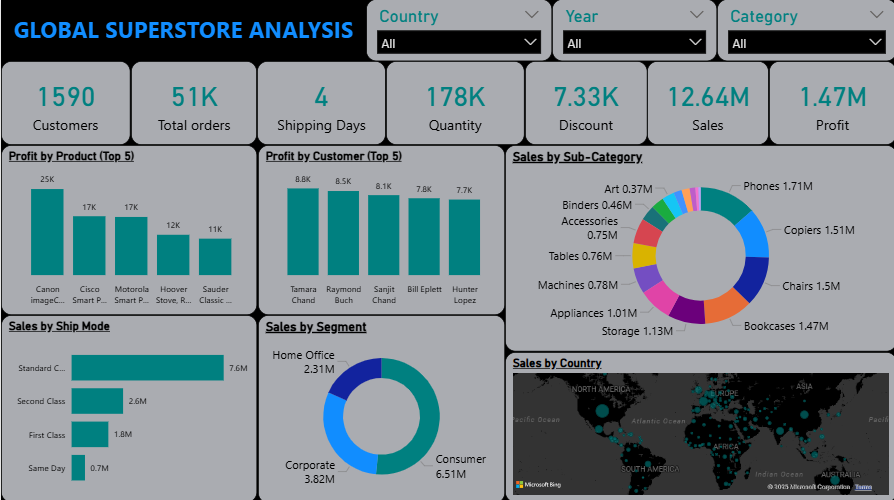

What the dashboard file says about the page in this screenshot:
{"tool":"powerbi","page":{"name":"Page 1","canvas":[1280,720],"ordinal":0},"visuals":[{"type":"card","fields":{"Values":["Measures_table.Customers"]},"box":[0,88.2,185.1,120.5],"z":0},{"type":"card","fields":{"Values":["Measures_table.Sales"]},"box":[922.9,88.6,174.3,120],"z":1},{"type":"card","fields":{"Values":["Measures_table.Profit"]},"box":[1097.6,88.2,182.2,120.5],"z":2},{"type":"card","fields":{"Values":["Measures_table.Total orders"]},"box":[185.7,88.6,180,120],"z":3},{"type":"columnChart","title":"Profit by Customer (Top 5)","fields":{"Category":["Global_Superstore2.Customer Name"],"Y":["Measures_table.Profit"]},"box":[367.1,208.6,352.9,242.9],"z":4},{"type":"slicer","fields":{"Values":["Global_Superstore2.Country"]},"box":[521.4,0,265.7,88.6],"z":5},{"type":"map","fields":{"Category":["Global_Superstore2.Country"],"Size":["Measures_table.Sales"]},"box":[720,504.6,559.5,215.4],"z":6},{"type":"card","fields":{"Values":["Measures_table.Shipping Days"]},"box":[365.9,88.2,183.7,120.5],"z":7},{"type":"slicer","fields":{"Values":["Global_Superstore2.Order Date.Variation.Date Hierarchy.Year"]},"box":[787.1,0,235.7,88.6],"z":8},{"type":"clusteredBarChart","fields":{"Category":["Global_Superstore2.Ship Mode"],"Y":["Measures_table.Sales"]},"box":[0,451.6,366.5,268.4],"z":9},{"type":"card","fields":{"Values":["Measures_table.Discount"]},"box":[747.9,88.2,174.9,120.5],"z":10},{"type":"donutChart","fields":{"Y":["Measures_table.Sales"],"Category":["Global_Superstore2.Segment"]},"box":[367.1,451.4,352.9,268.6],"z":11},{"type":"donutChart","fields":{"Y":["Measures_table.Sales"],"Category":["Global_Superstore2.Sub-Category"]},"box":[720,209,560,295.5],"z":12},{"type":"textbox","box":[0,0,521.6,88.2],"z":13},{"type":"card","fields":{"Values":["Measures_table.Quantity"]},"box":[549.6,88.2,198.4,120.5],"z":14},{"type":"slicer","fields":{"Values":["Global_Superstore2.Category"]},"box":[1022.9,0,257.1,88.6],"z":15},{"type":"columnChart","title":"Profit by Product (Top 5)","fields":{"Category":["Global_Superstore2.Product Name"],"Y":["Measures_table.Profit"]},"box":[0,208.6,365.7,242.9],"z":16}]}

Visuals, with their boxes in screenshot pixels (x1, y1, x2, y2), scaled from the page's 1280x720 canvas onto the 894x500 screenshot:
card - Measures_table.Customers: [x1=0, y1=61, x2=129, y2=145]
card - Measures_table.Sales: [x1=645, y1=62, x2=766, y2=145]
card - Measures_table.Profit: [x1=767, y1=61, x2=893, y2=145]
card - Measures_table.Total orders: [x1=130, y1=62, x2=255, y2=145]
"Profit by Customer (Top 5)" columnChart: [x1=256, y1=145, x2=503, y2=314]
slicer - Global_Superstore2.Country: [x1=364, y1=0, x2=550, y2=62]
map - Global_Superstore2.Country x Measures_table.Sales: [x1=503, y1=350, x2=893, y2=499]
card - Measures_table.Shipping Days: [x1=256, y1=61, x2=384, y2=145]
slicer - Global_Superstore2.Order Date.Variation.Date Hierarchy.Year: [x1=550, y1=0, x2=714, y2=62]
clusteredBarChart - Global_Superstore2.Ship Mode x Measures_table.Sales: [x1=0, y1=314, x2=256, y2=499]
card - Measures_table.Discount: [x1=522, y1=61, x2=645, y2=145]
donutChart - Measures_table.Sales x Global_Superstore2.Segment: [x1=256, y1=313, x2=503, y2=499]
donutChart - Measures_table.Sales x Global_Superstore2.Sub-Category: [x1=503, y1=145, x2=893, y2=350]
textbox: [x1=0, y1=0, x2=364, y2=61]
card - Measures_table.Quantity: [x1=384, y1=61, x2=522, y2=145]
slicer - Global_Superstore2.Category: [x1=714, y1=0, x2=893, y2=62]
"Profit by Product (Top 5)" columnChart: [x1=0, y1=145, x2=255, y2=314]
